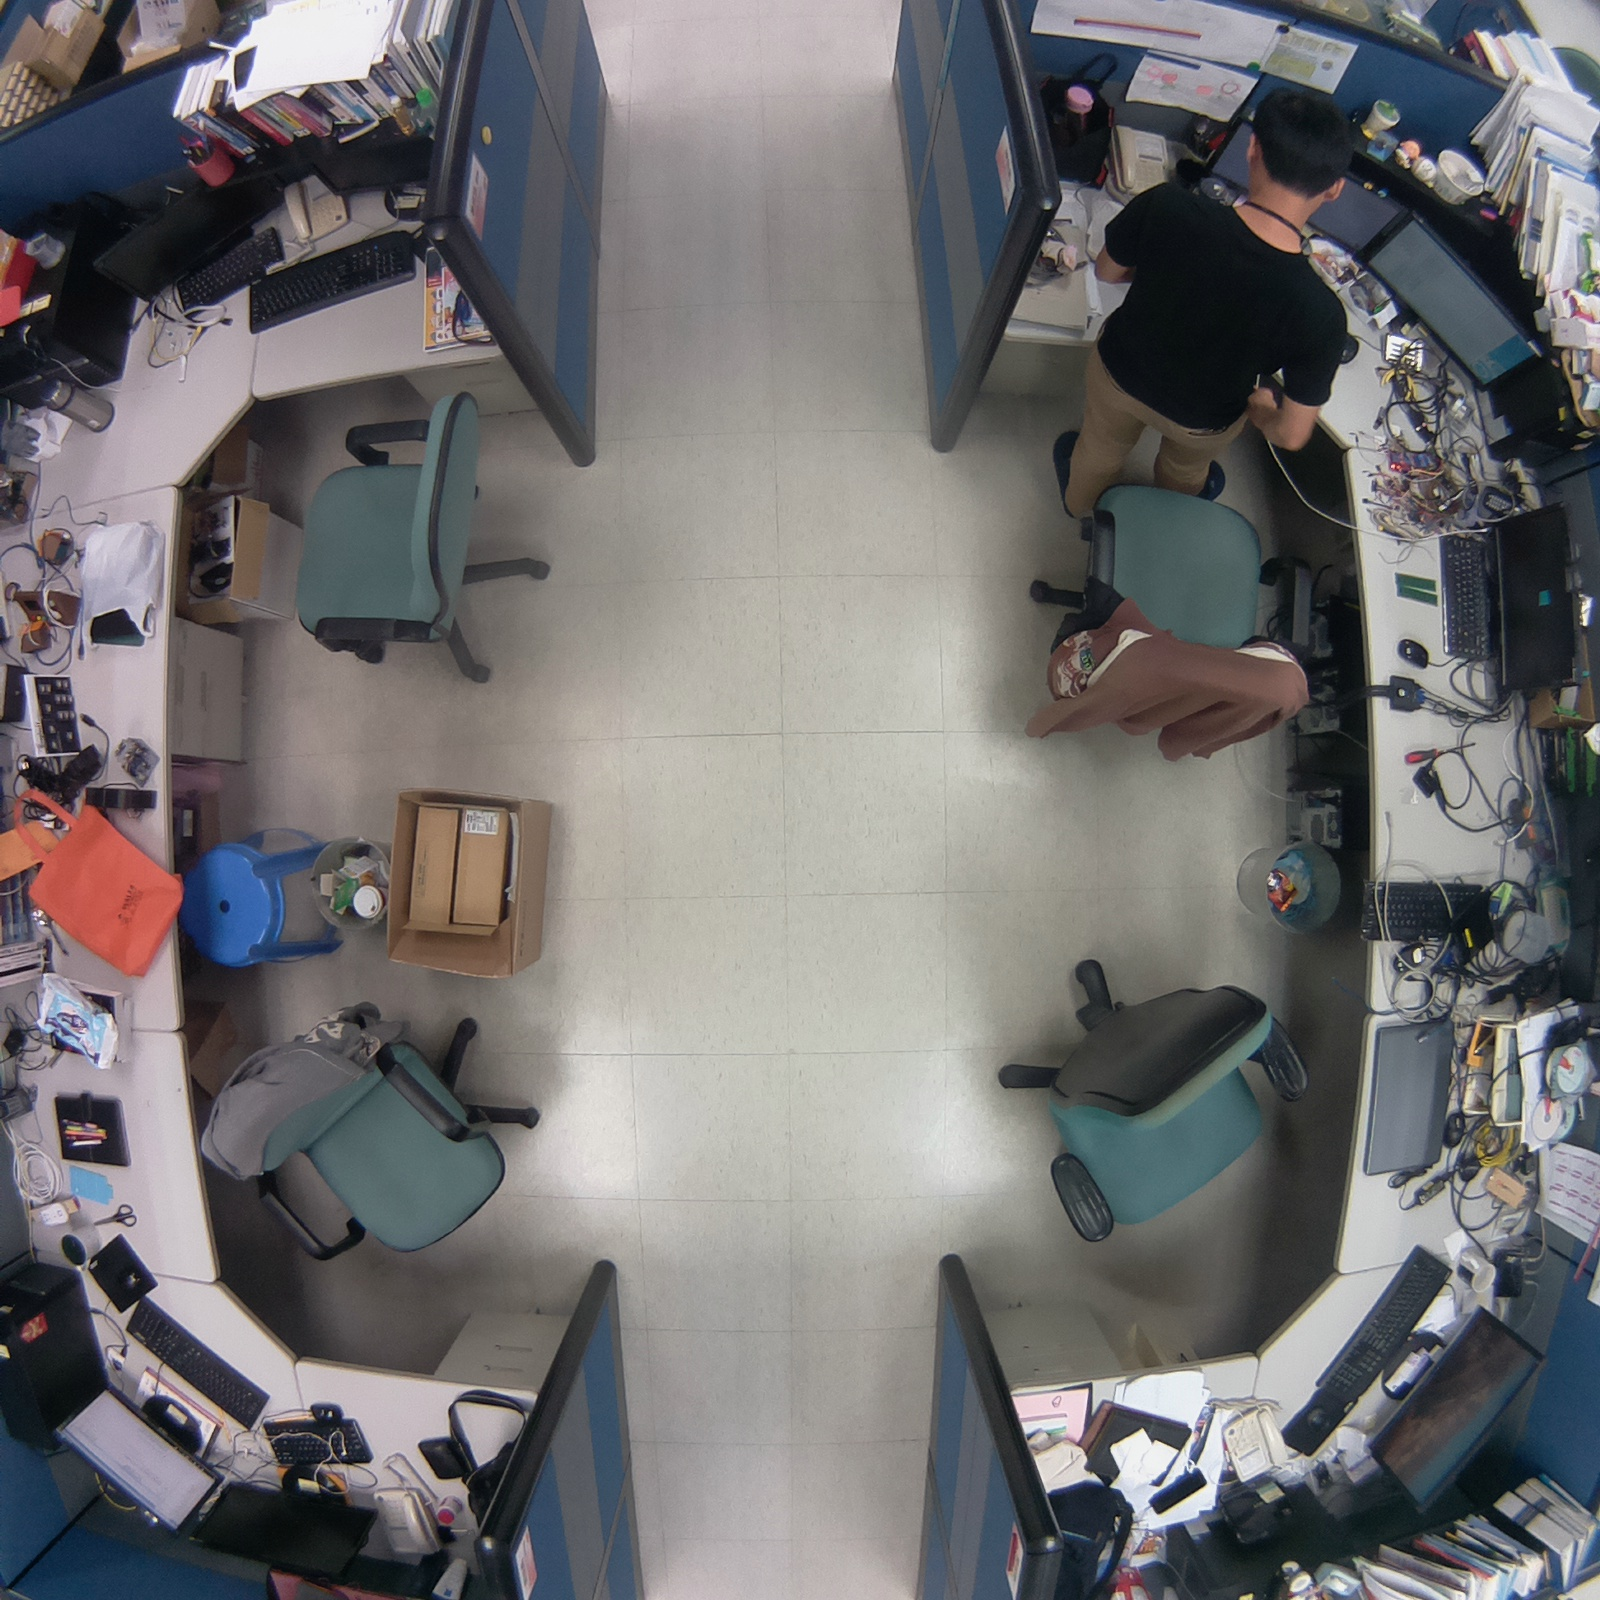chair: (955, 942, 1324, 1258), (176, 993, 560, 1278), (255, 383, 558, 691), (1022, 468, 1319, 773)
head: (1237, 88, 1362, 208)
standing: (1035, 80, 1390, 540)
